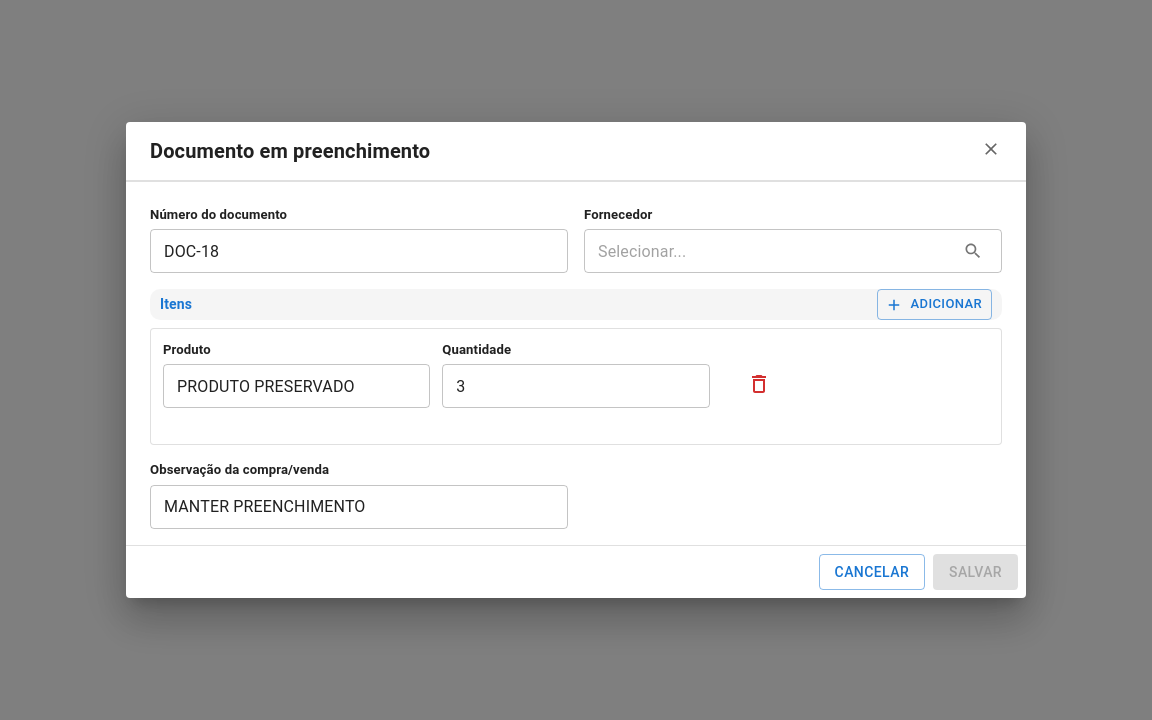
Test: cadastro no contexto do documento › sem gerenciamento não oferece criar Fornecedor
Click the field labelled "Fornecedor" at {"x": 767, "y": 251}, box [584,231,950,271]
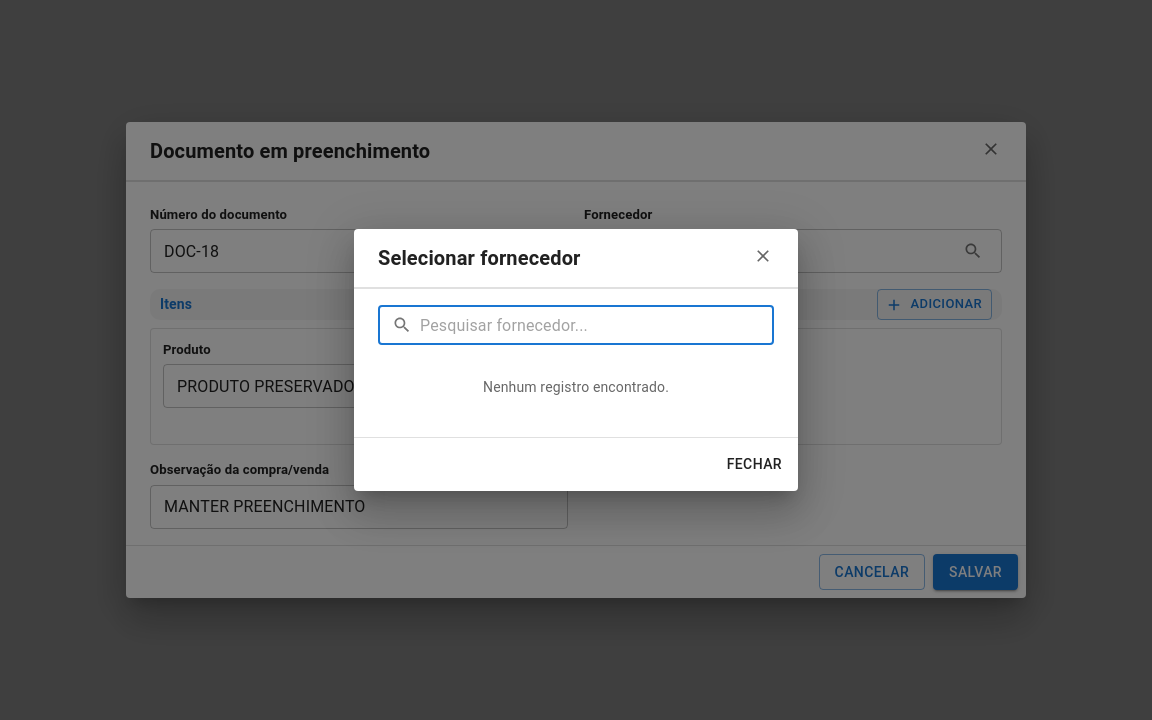
Expected: the text "Nenhum registro encontrado." is shown, [483,379,669,395]
